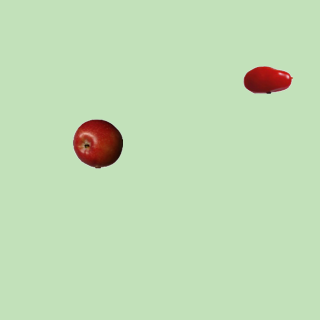Apple Braeburn: (72, 118, 122, 168)
Tomato 2: (242, 54, 292, 104)
